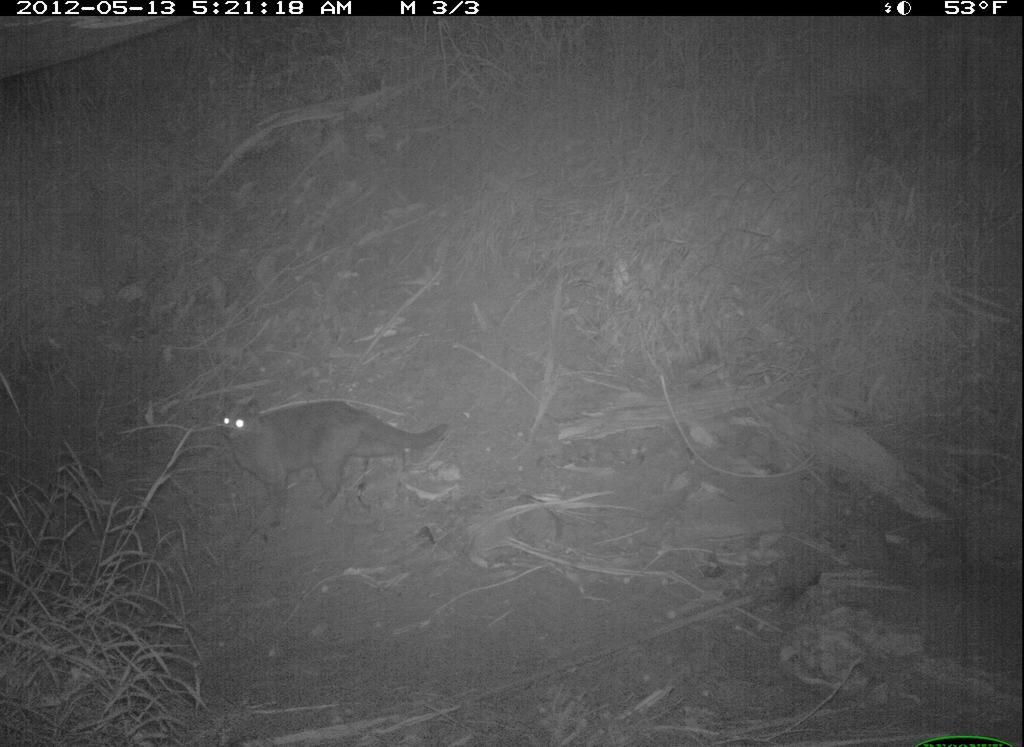cat: (203, 390, 460, 530)
